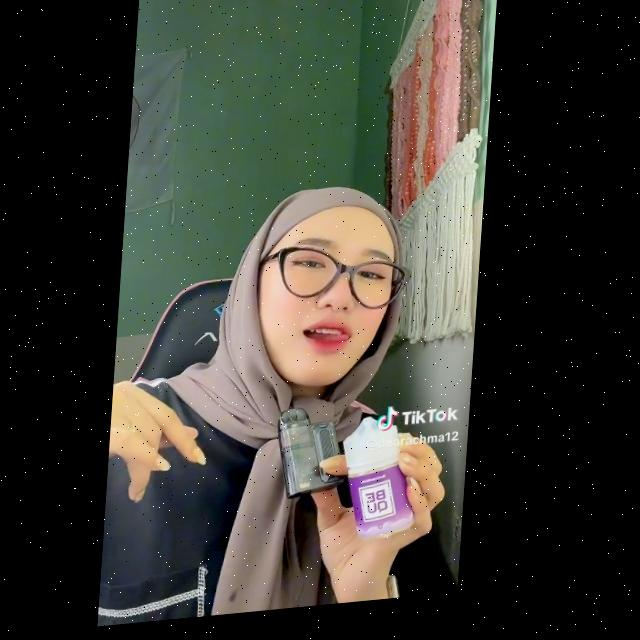vape: (280, 408, 356, 500)
